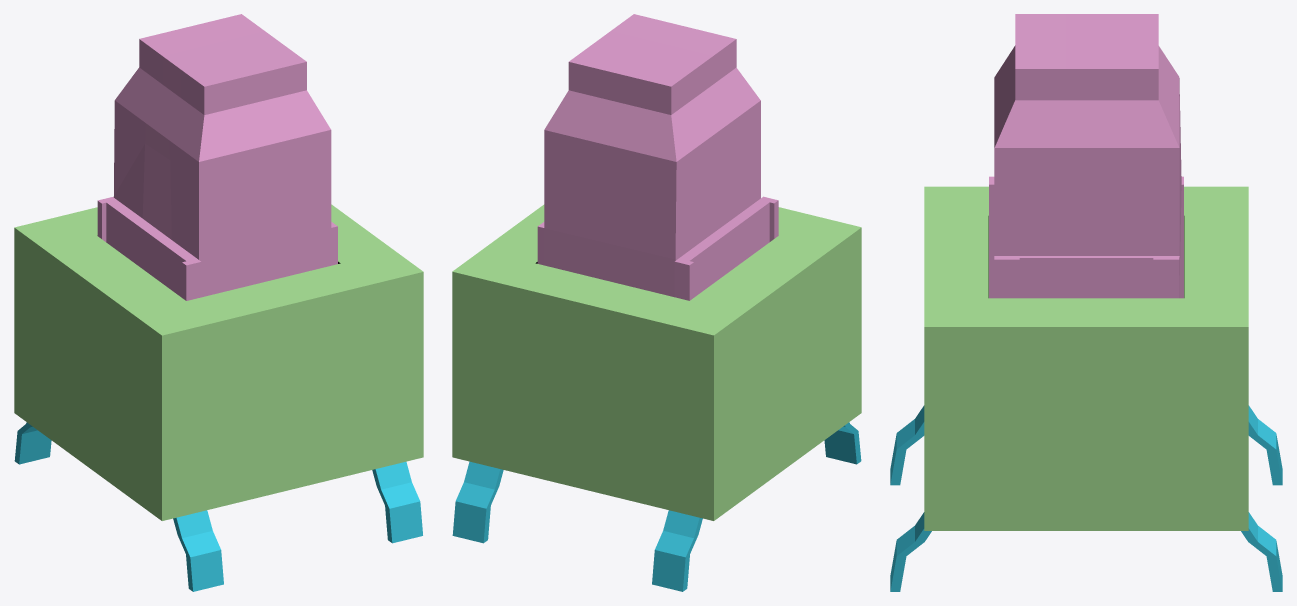
The model's file is ButtonToggle.fbx.
3 renders of one model, left to right at view 1: azimuth 30°, elevation 25°; view 2: azimuth 150°, elevation 25°; view 3: azimuth 270°, elevation 25°, orthographic. The views are drawn at different scales.
Visible parts, largest first — view 1: Cube.001, Cube.003; view 2: Cube.001, Cube.003; view 3: Cube.001, Cube.003.
Part boxes in pixels (x1=…): Cube.001: x1=14, y1=204, x2=423, y2=591; Cube.003: x1=97, y1=14, x2=337, y2=300; Cube.001: x1=452, y1=204, x2=861, y2=591; Cube.003: x1=537, y1=14, x2=778, y2=300; Cube.001: x1=890, y1=186, x2=1282, y2=591; Cube.003: x1=989, y1=14, x2=1183, y2=298.
Bounding box in the file's own units: 339 × 554 × 401.
